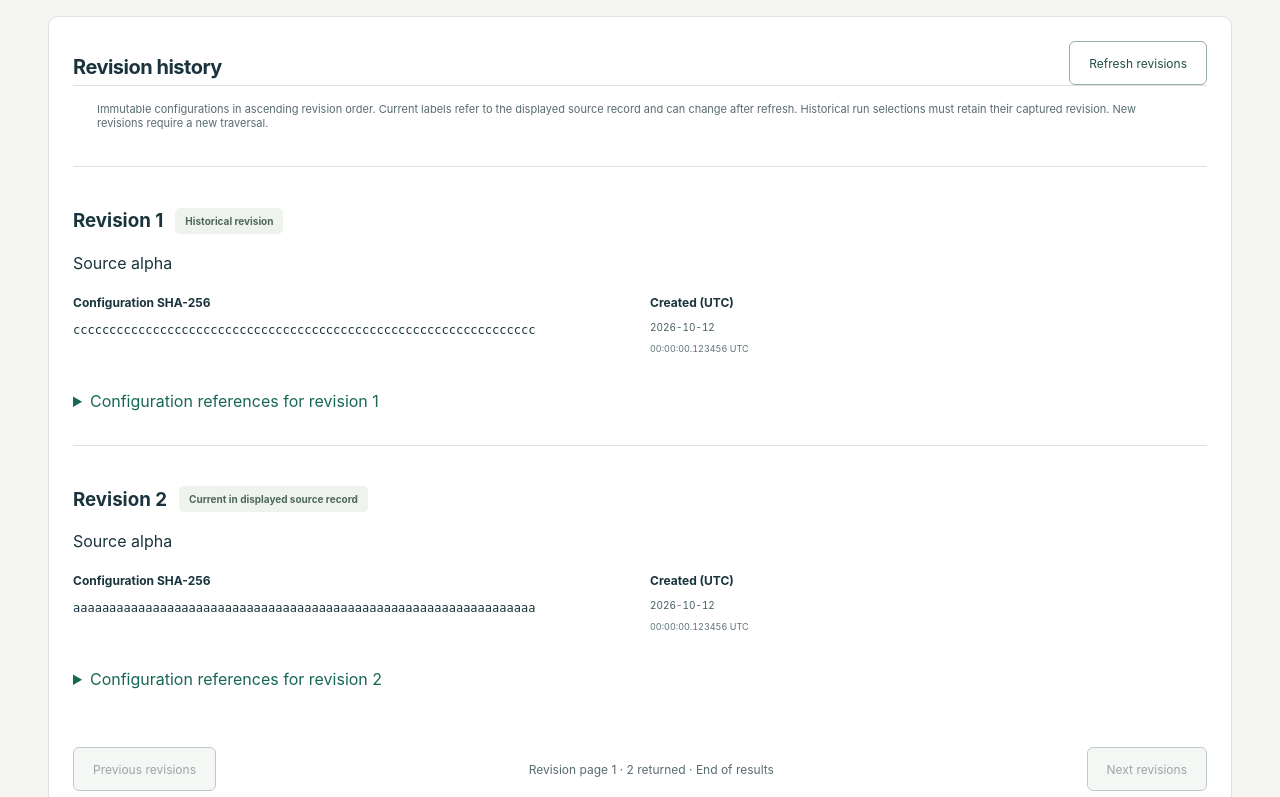
Test: current source and independent immutable history › shows disabled content-intelligence configuration and immutable historical references
(page scrolled)
Click the heading "Configuration references for revision 1" at (234, 401), box x1=90 y1=391 x2=379 y2=411
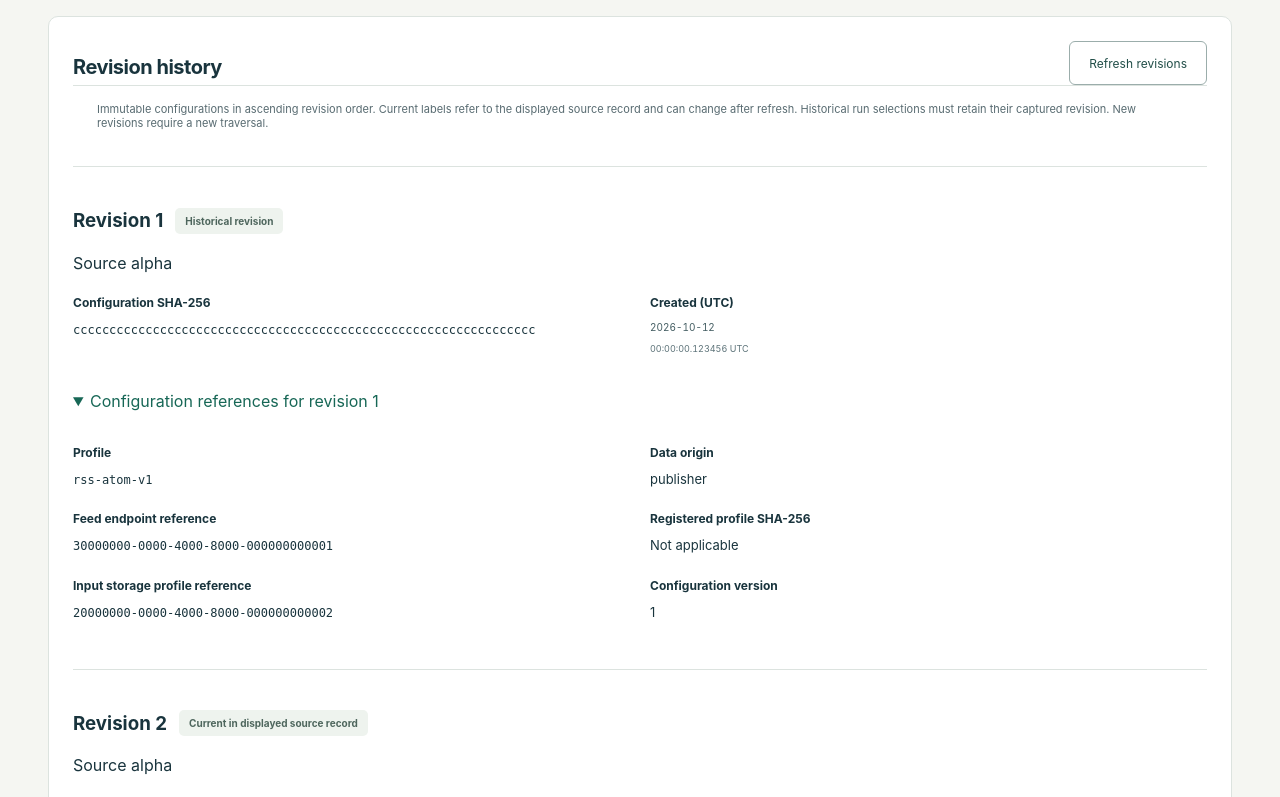
Expected: the text "20000000-0000-4000-8000-000000000002" is shown, x1=73 y1=606 x2=333 y2=620
